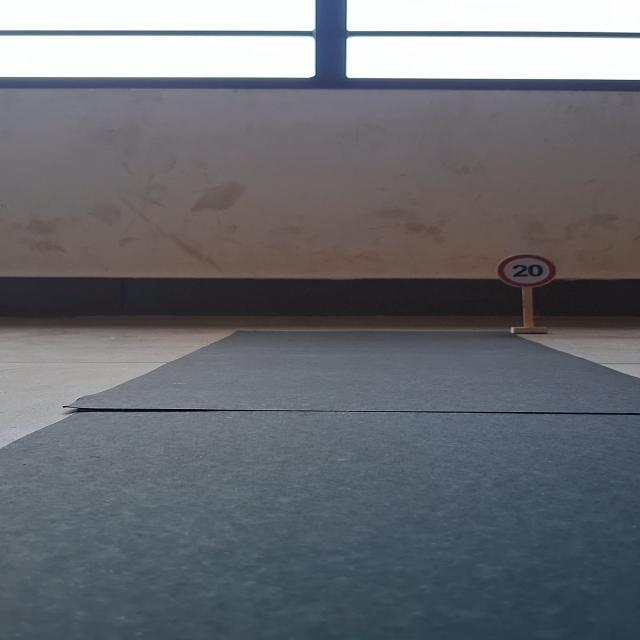Speed20: (494, 252, 559, 292)
